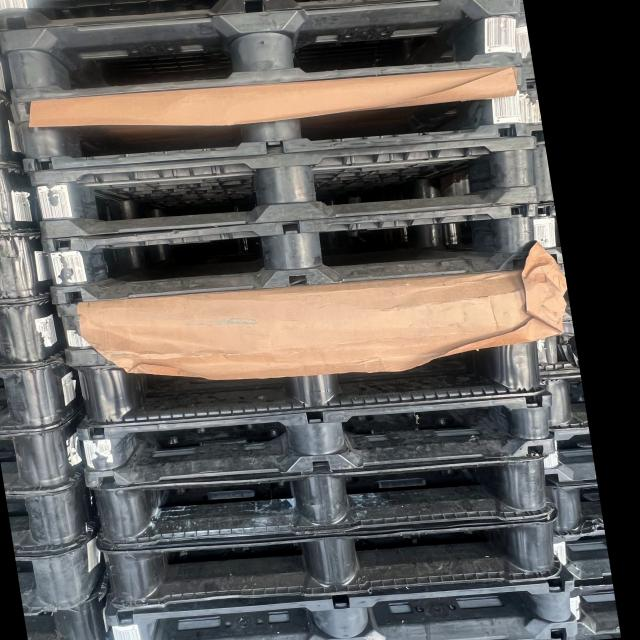igps: (8, 56, 538, 180), (23, 129, 546, 248), (39, 195, 548, 314), (0, 0, 527, 112), (70, 314, 555, 431), (71, 387, 562, 495), (93, 504, 567, 615), (86, 450, 559, 550), (100, 560, 582, 640), (0, 0, 448, 40), (3, 470, 104, 559), (11, 532, 115, 618), (0, 408, 90, 497), (0, 352, 91, 439), (0, 294, 72, 374), (18, 588, 120, 640), (0, 230, 57, 307), (0, 163, 45, 236)
